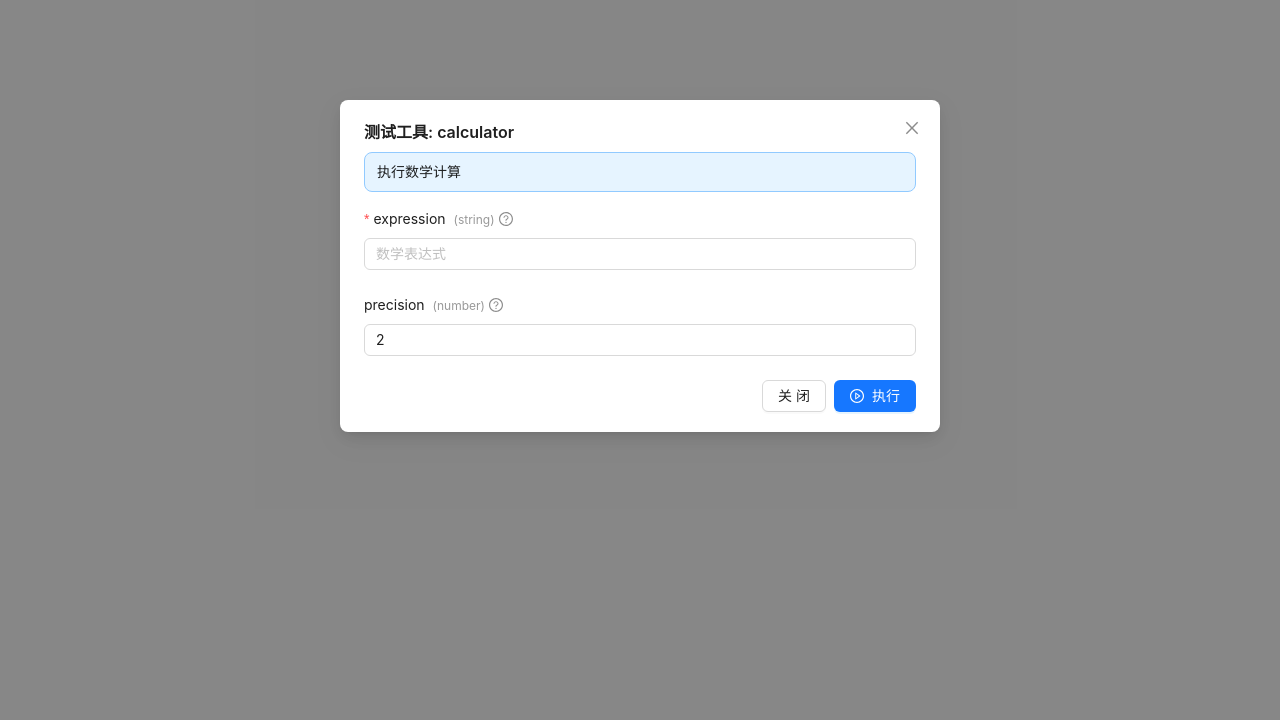
Test: ToolExecuteModal 错误处理 › 应该显示执行错误
This screenshot has width=1280, height=720.
Type "6 * 7" into the field with placeholder "数学表达式" at (640, 254), box left=364, top=238, right=916, bottom=270
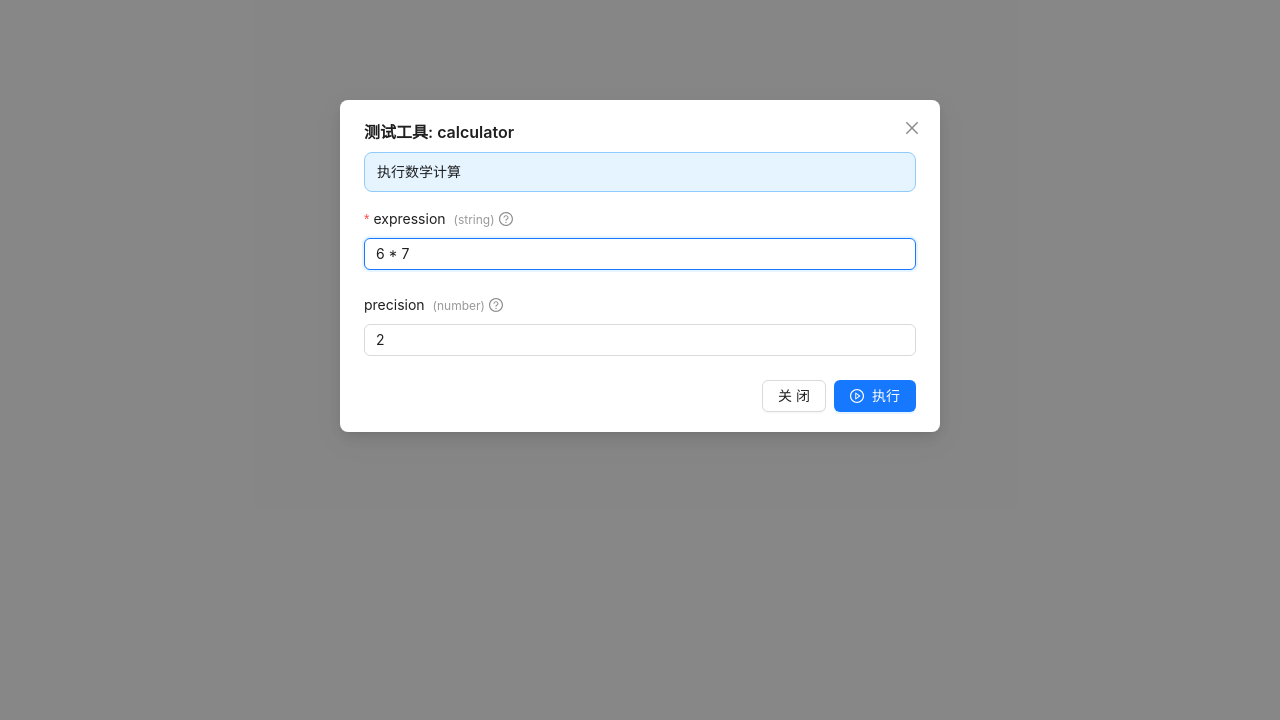
Click the button "执行" at (875, 396), box left=834, top=380, right=916, bottom=412
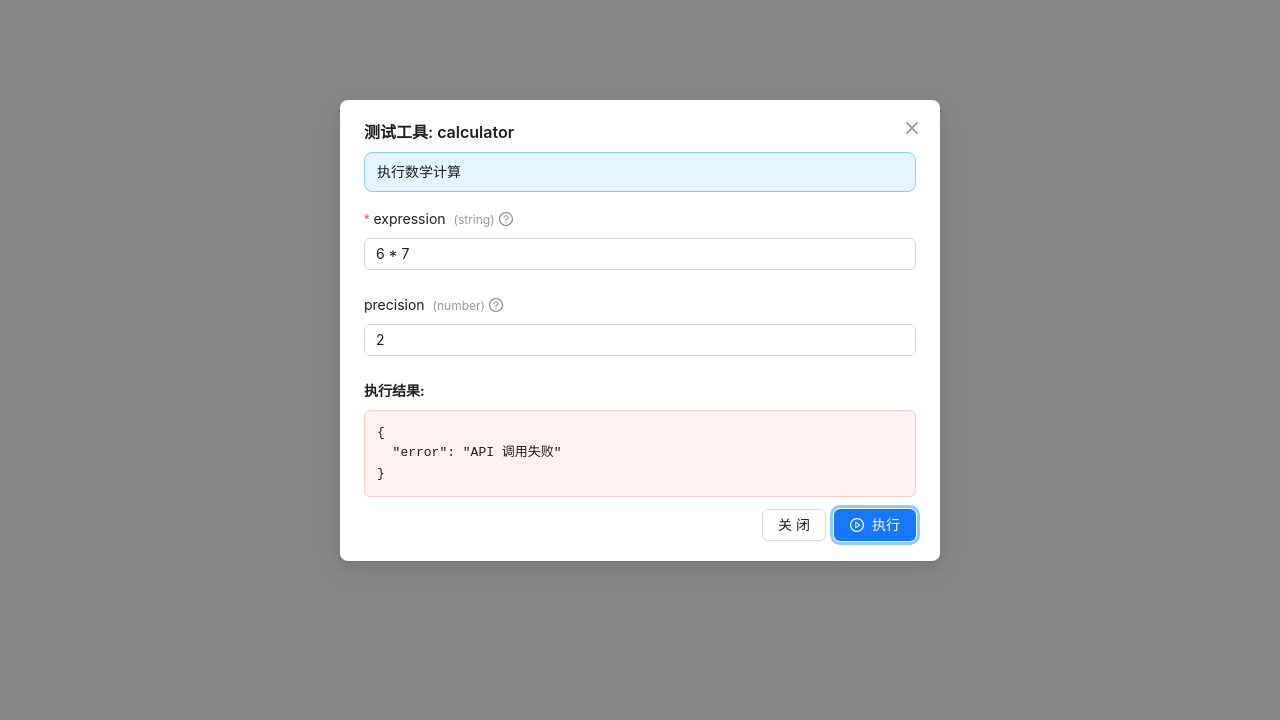
Check: the text "执行结果:" is shown, box left=364, top=382, right=425, bottom=399
Check: the text "{ \"error\": \"API 调用失败\" }" is shown, box left=377, top=425, right=562, bottom=481
